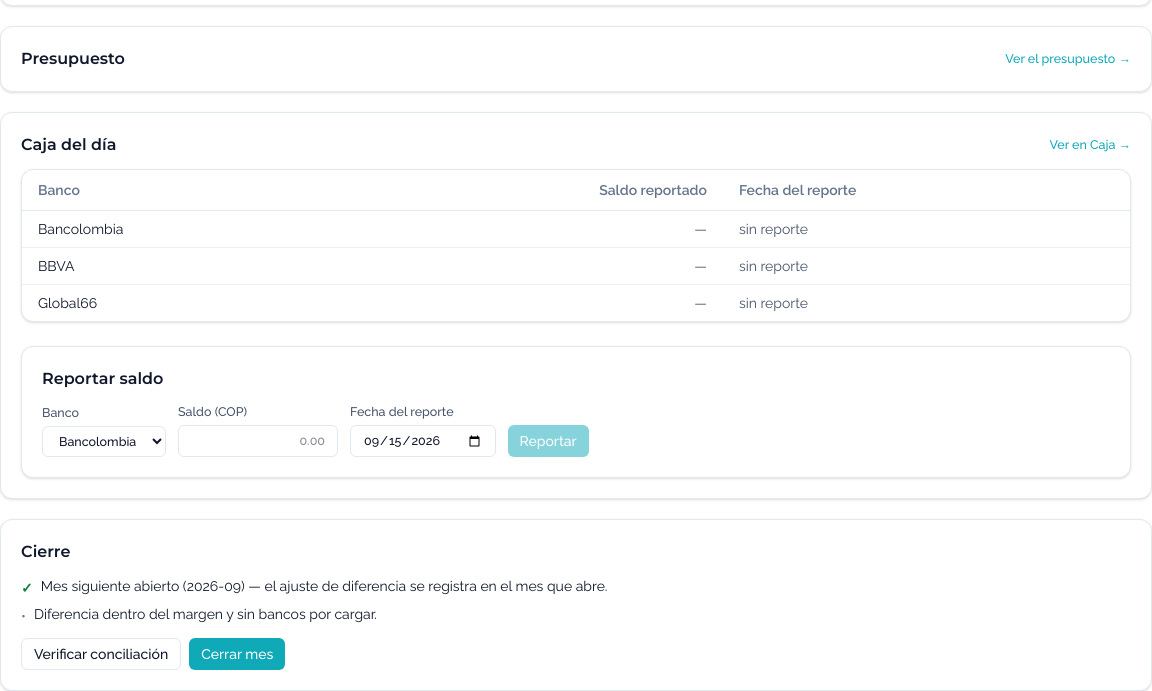
Test: CabinaMesPage — cierre real (§7.6) › CR-WAVA: el dinero en tránsito (Wava) viaja a confirmarCierre
(page scrolled)
Click the button "Cerrar mes" at (237, 654), box [189,638,285,670]
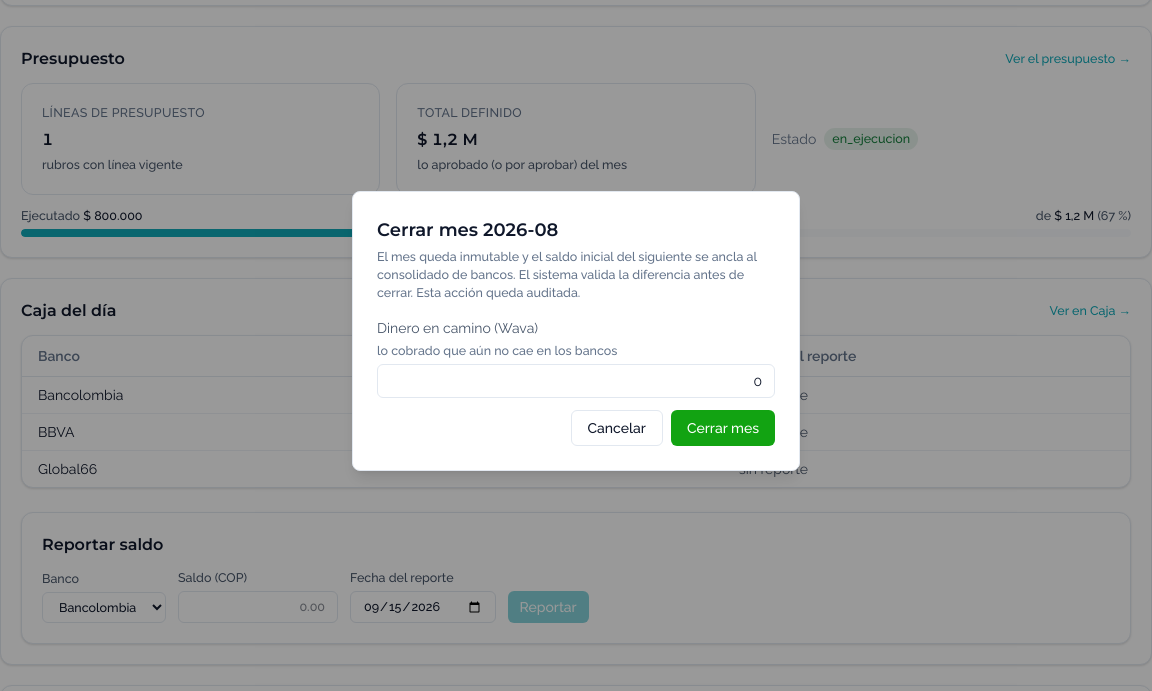
Type "37280415" into the field named "Dinero en tránsito (Wava)" at (576, 381), box [377,364,775,398]
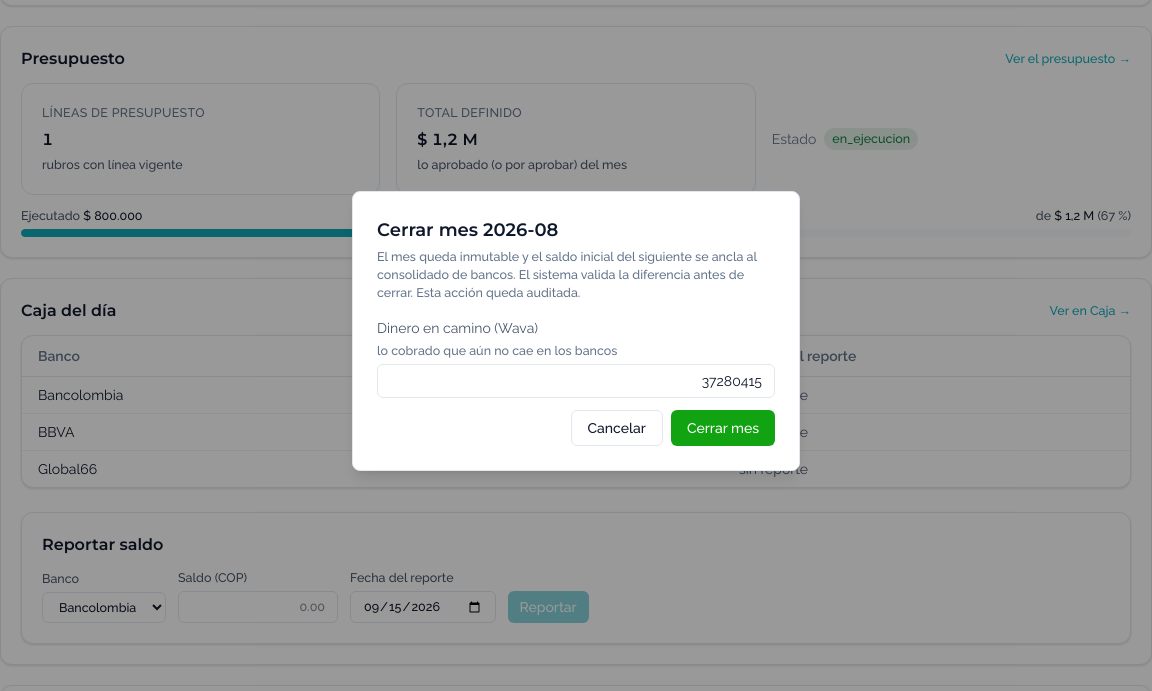
Click the button "Cerrar mes" at (723, 428), box [671,410,775,446]
(page scrolled)
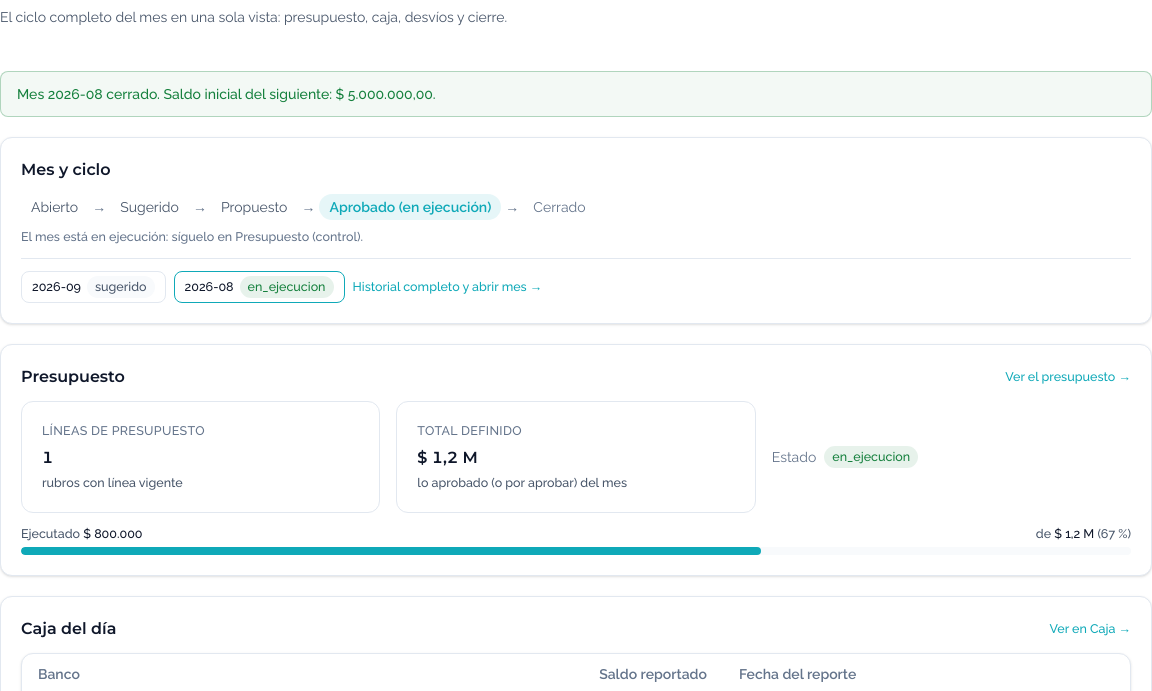
Expected: the text "Mes 2026-08 cerrado. Saldo inicial del siguiente: $ 5.000.000,00." is shown, [0,71,1151,117]
